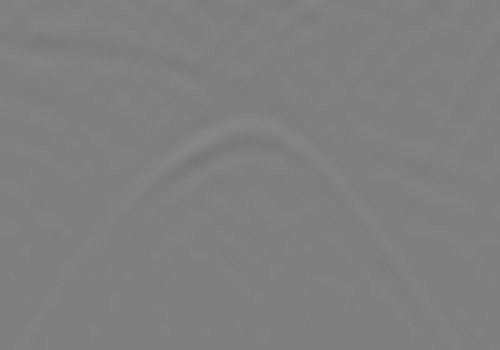hyperbola: (69, 109, 437, 307)
